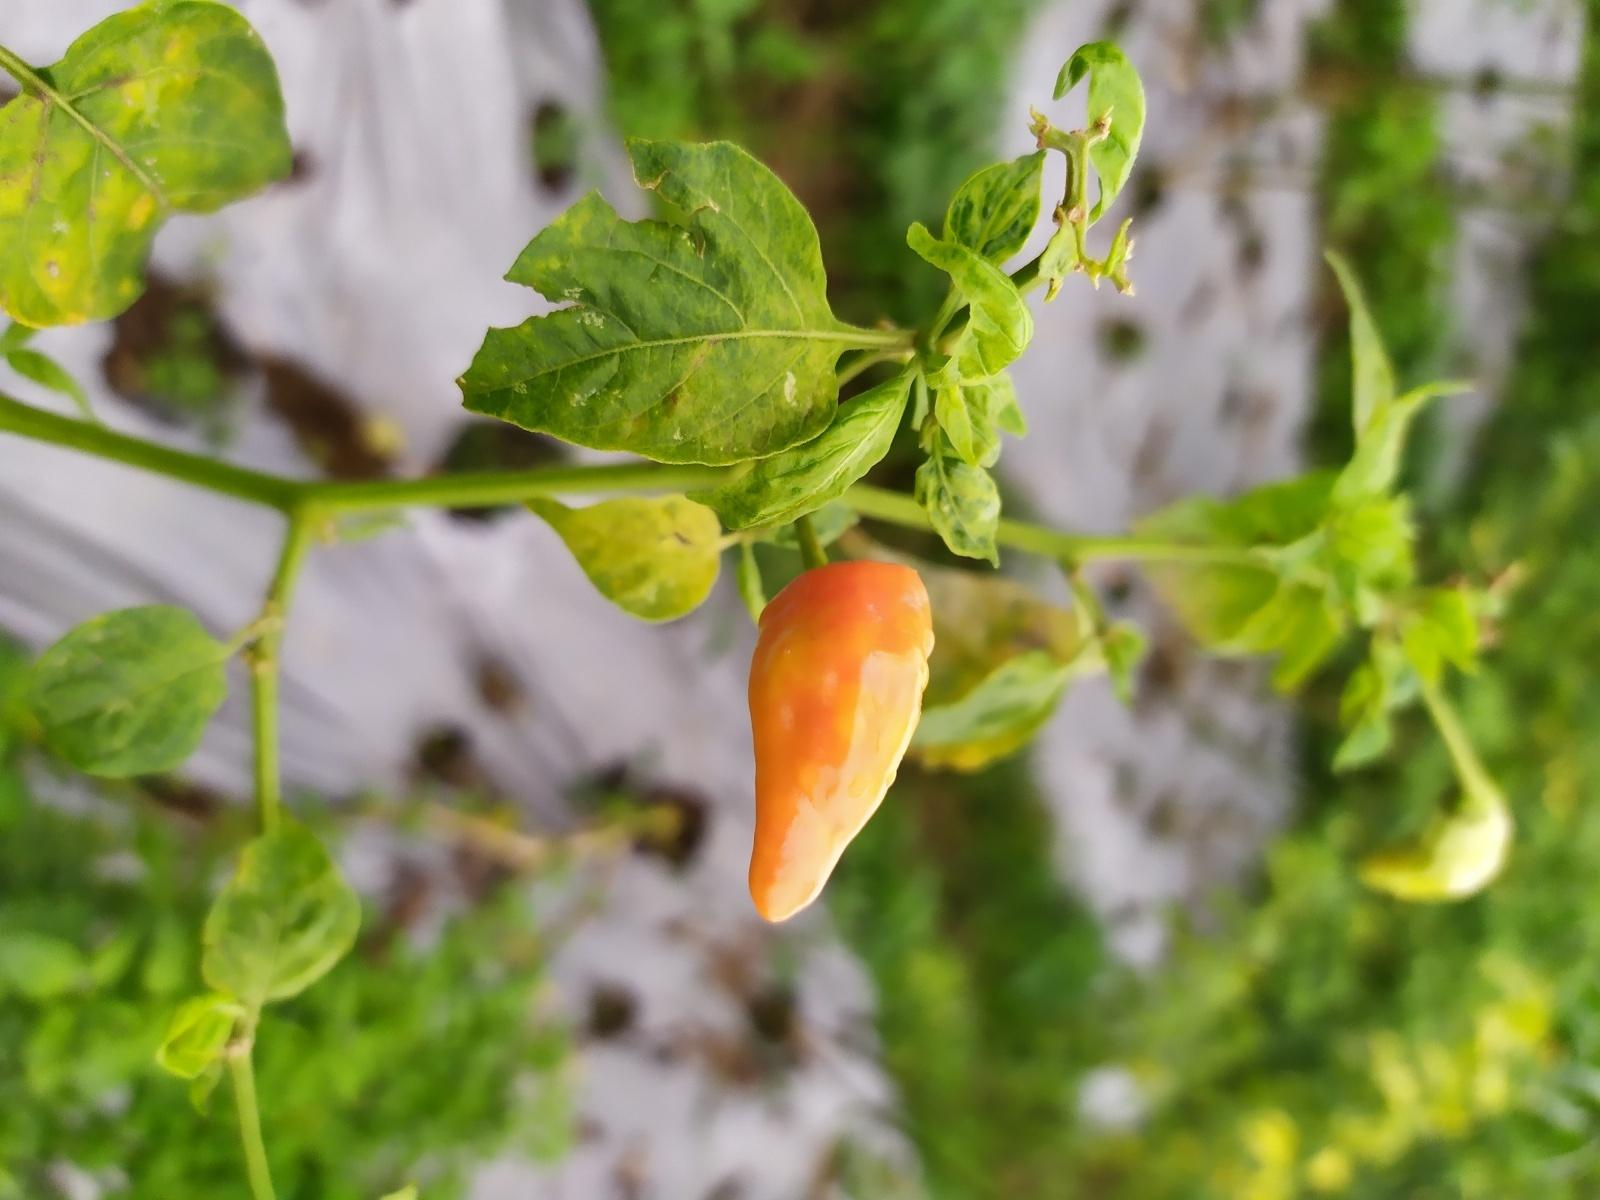cabai_normal: (747, 558, 935, 924)
